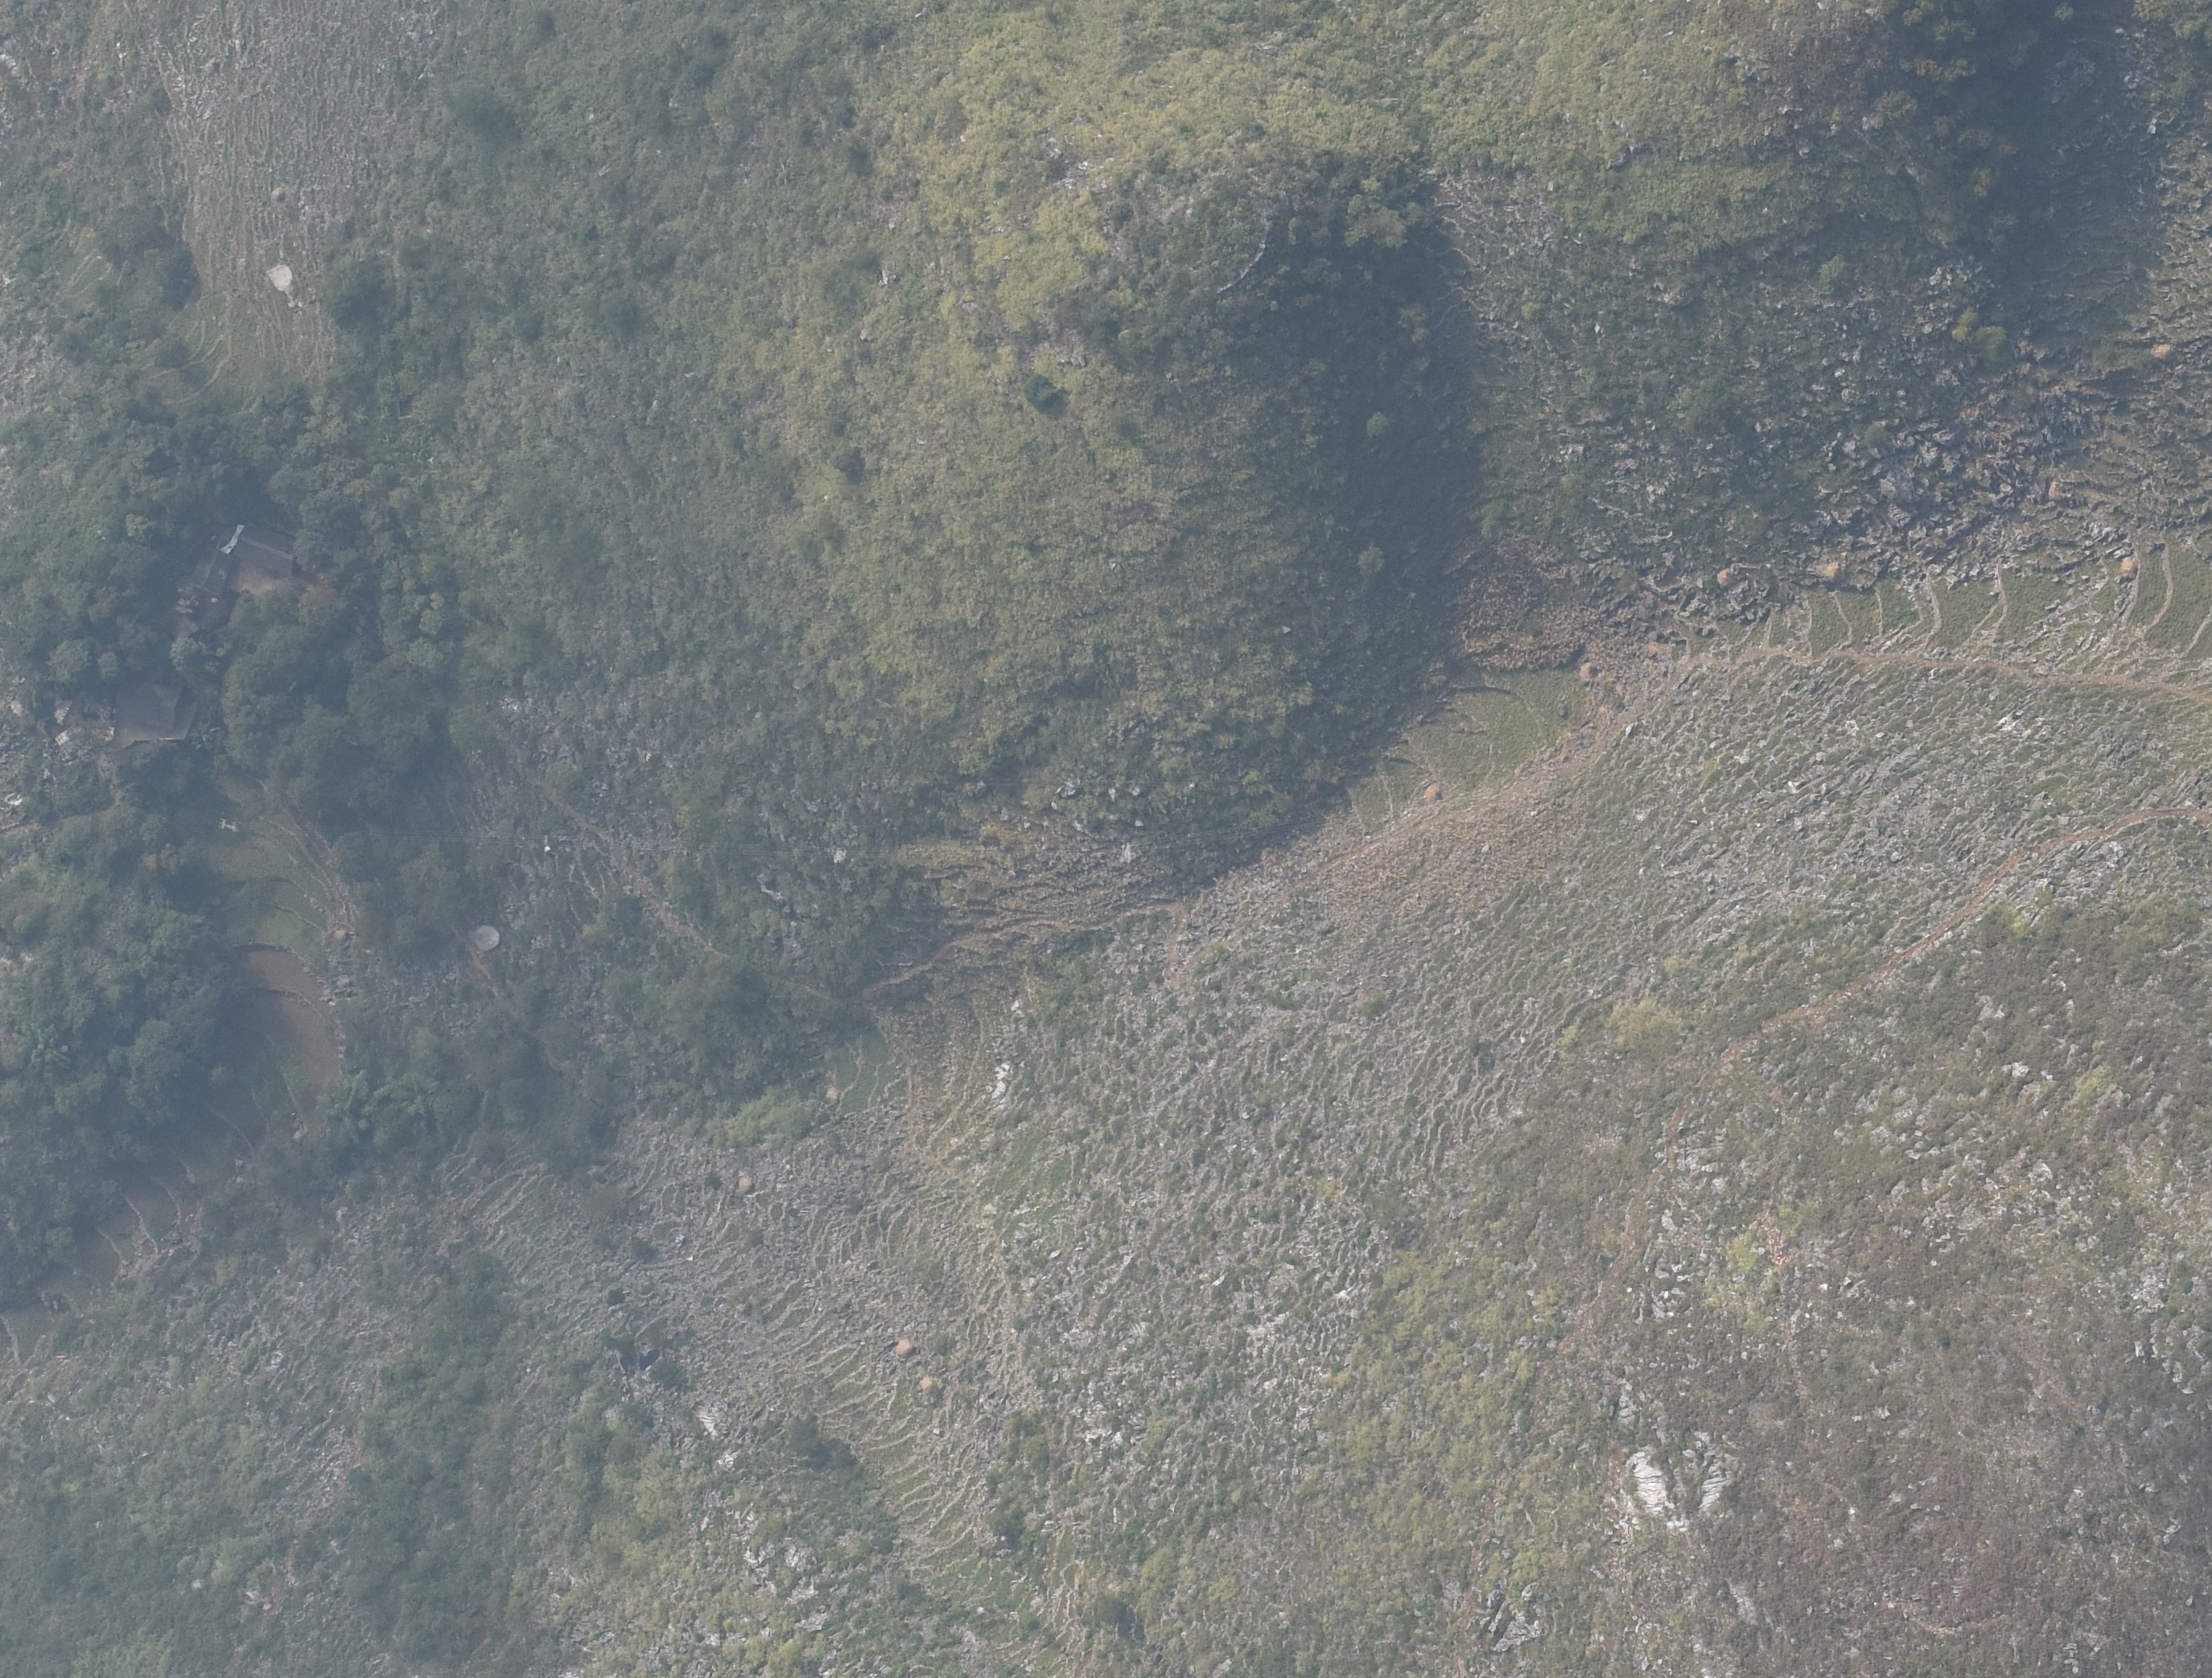building: (220, 523, 300, 573), (113, 679, 185, 730), (189, 548, 233, 598), (56, 731, 79, 760)
cable-tower: (217, 818, 241, 834), (830, 846, 848, 864), (1119, 843, 1133, 862), (1188, 779, 1197, 790), (541, 834, 548, 844)
